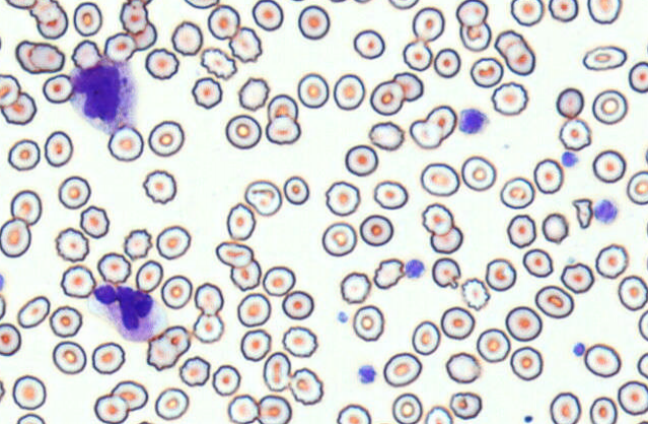GRAN: (88, 281, 168, 344)
MONO: (66, 61, 138, 137)
PLT: (458, 106, 489, 137), (593, 199, 617, 225), (357, 364, 377, 386), (405, 259, 424, 279), (560, 150, 579, 167), (571, 342, 590, 357), (335, 309, 349, 325)
RBC: (146, 325, 191, 371), (494, 29, 535, 75), (15, 39, 65, 74), (29, 0, 68, 39), (244, 179, 282, 216), (107, 124, 144, 161), (383, 352, 422, 387), (534, 284, 574, 318), (505, 305, 542, 341), (147, 120, 184, 156), (288, 367, 323, 405), (420, 162, 459, 196), (460, 155, 496, 191), (591, 89, 628, 124), (199, 46, 237, 80), (583, 343, 621, 377), (325, 180, 360, 216), (225, 114, 261, 149), (228, 26, 262, 63), (491, 81, 528, 115), (0, 217, 31, 257), (54, 227, 89, 262), (369, 80, 404, 115), (236, 292, 271, 327), (321, 221, 356, 256), (1, 91, 37, 125), (12, 374, 46, 410), (60, 264, 96, 298), (155, 225, 191, 259), (509, 346, 543, 381), (440, 306, 475, 340), (142, 169, 176, 204), (476, 328, 510, 363), (207, 4, 240, 40), (297, 4, 330, 40), (499, 176, 535, 209), (595, 243, 628, 279), (281, 325, 318, 357), (333, 73, 365, 110), (352, 304, 384, 341), (110, 380, 148, 411), (582, 45, 627, 71), (262, 351, 291, 391), (57, 175, 91, 209), (52, 340, 86, 374), (592, 149, 626, 183), (154, 387, 189, 420), (425, 104, 457, 140), (10, 189, 42, 225), (412, 6, 444, 42), (445, 351, 481, 383), (297, 72, 329, 108), (91, 341, 125, 374), (144, 47, 179, 79), (171, 20, 203, 55), (160, 274, 192, 309), (368, 120, 404, 151), (533, 158, 564, 194), (43, 130, 73, 167), (617, 274, 647, 311), (226, 202, 255, 240), (17, 295, 50, 328), (7, 138, 40, 171), (558, 118, 591, 151), (359, 214, 393, 246), (97, 252, 131, 284), (344, 144, 378, 176), (238, 76, 269, 111), (265, 115, 301, 145), (215, 240, 253, 268), (421, 202, 453, 235), (49, 305, 82, 337), (339, 271, 371, 304), (560, 262, 594, 293), (469, 56, 503, 87), (485, 257, 516, 291), (506, 213, 536, 248), (617, 380, 647, 415), (373, 179, 408, 209), (93, 394, 129, 423), (229, 259, 261, 291), (178, 355, 210, 387), (549, 391, 581, 423), (191, 76, 222, 109), (262, 265, 295, 296), (240, 328, 271, 361), (411, 320, 440, 355), (73, 1, 102, 36), (192, 312, 224, 343), (251, 0, 283, 31), (409, 119, 442, 149), (460, 277, 490, 310), (79, 205, 109, 238), (281, 290, 314, 320), (429, 225, 463, 254), (257, 394, 291, 423), (391, 392, 422, 423), (104, 32, 136, 62), (402, 39, 432, 71), (42, 73, 74, 103), (211, 364, 241, 396), (353, 29, 385, 59), (119, 0, 148, 33), (194, 282, 223, 315), (135, 259, 163, 293), (71, 39, 102, 69), (392, 71, 423, 101), (459, 22, 491, 51), (123, 228, 152, 260), (449, 391, 482, 419), (267, 93, 298, 122), (227, 394, 258, 423), (522, 248, 553, 277), (555, 87, 584, 118), (510, 0, 544, 26), (433, 47, 461, 78), (541, 212, 569, 243), (455, 0, 488, 26), (128, 21, 157, 50), (587, 0, 622, 24), (283, 175, 309, 205), (589, 396, 617, 423), (626, 170, 647, 205), (0, 322, 21, 356), (336, 403, 371, 423), (0, 73, 20, 107), (548, 0, 578, 22), (628, 61, 647, 93), (423, 405, 453, 423), (16, 412, 45, 423), (184, 0, 219, 9), (388, 0, 419, 10), (5, 0, 38, 9), (638, 309, 647, 341), (637, 352, 647, 379), (0, 293, 6, 320), (126, 0, 152, 6), (0, 379, 5, 403), (135, 420, 155, 424), (353, 0, 373, 4)
Schistocyte: (430, 258, 464, 291), (373, 258, 406, 290), (570, 198, 595, 231)
